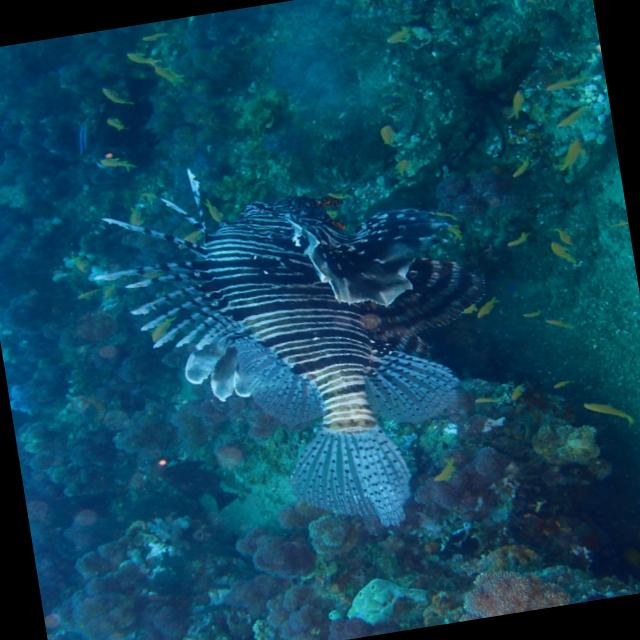Aslan Baligi: (69, 124, 524, 570)
